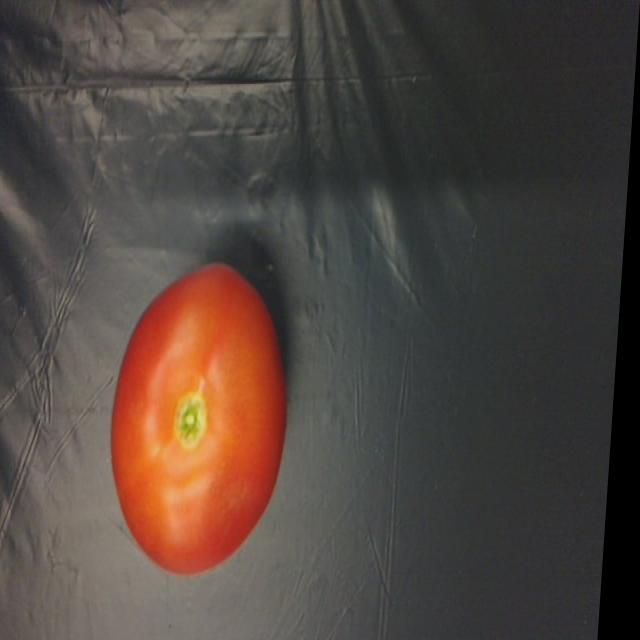sari: (99, 254, 304, 576)
